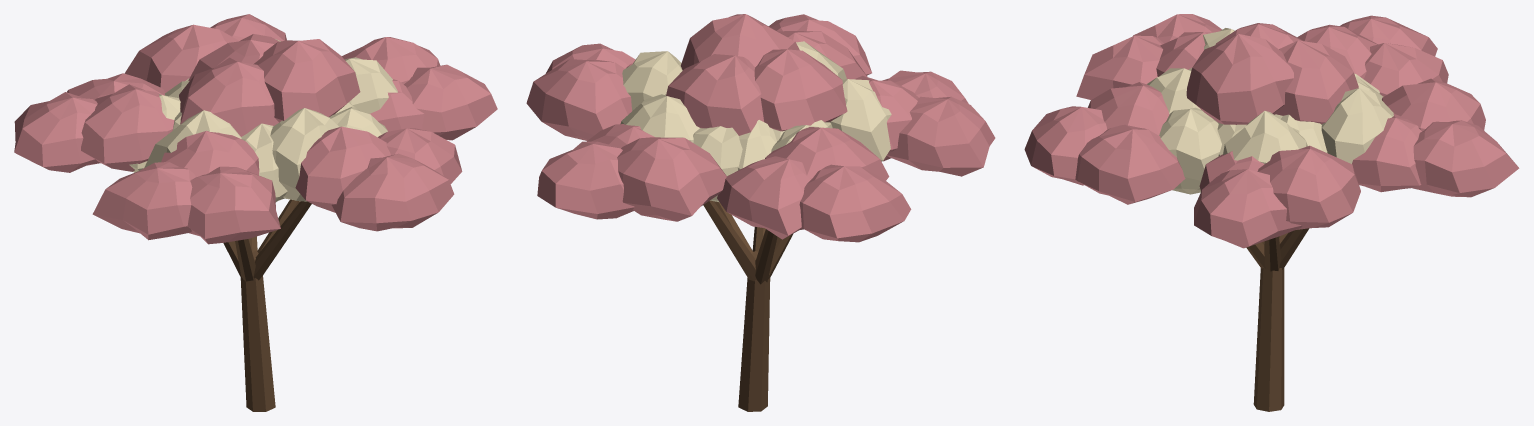
Rendered from b08_flowering_cherry.glb.
The picture shows the model from 3 angles, left to right: view 1: azimuth 30°, elevation 25°; view 2: azimuth 150°, elevation 25°; view 3: azimuth 270°, elevation 25°; orthographic projection. The views are drawn at different scales.
Parts seen in each view (by area): view 1: b08_flowering_cherry; view 2: b08_flowering_cherry; view 3: b08_flowering_cherry.
Boxes of the visible parts, box(x1,y1,x2,y2) form: b08_flowering_cherry: box(14, 14, 497, 411); b08_flowering_cherry: box(526, 14, 995, 411); b08_flowering_cherry: box(1024, 14, 1519, 411).
Size of the model in its own units: 4.75 by 4.05 by 4.73.
